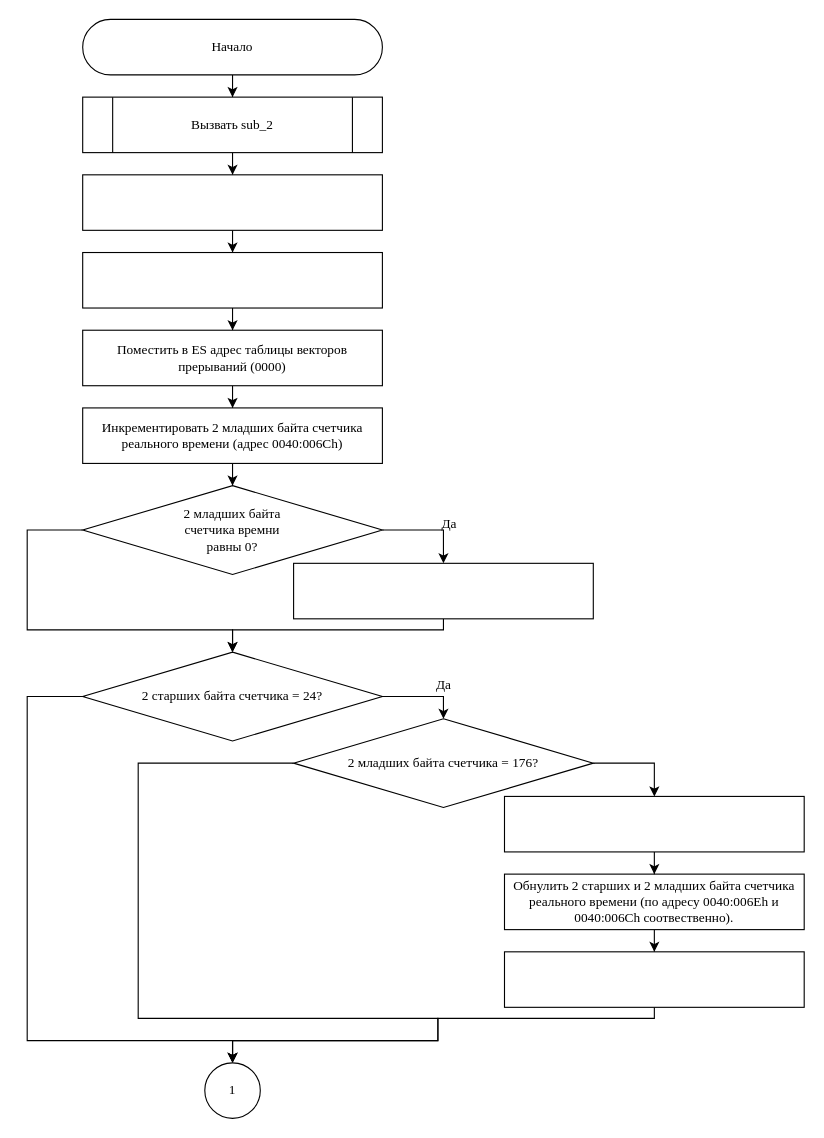
This 824x1138 diagram has some shape labels left out. Here are the shapes that lost their labels. From the top down, the box of each, then its label:
(82, 174, 382, 230): Сохранить регистры ES, DS, AX, DX
(82, 251, 382, 308): Поместить в DS адреса сегмента 40h (области данных BIOS)
(292, 562, 593, 619): Инкрементировать 2 старших байта счетчика реального времени (адрес 0040:006Eh)
(503, 795, 804, 852): Установить значение 1 во флаг прошедших суток (по адресу 0040:0070h)
(503, 951, 804, 1007): Побитовое сравнение AL и 8, помещениние в стек AX
